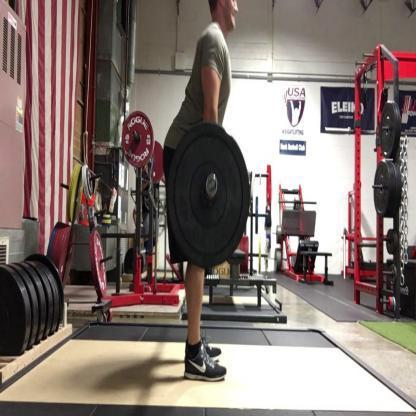barbell: (165, 122, 250, 272)
